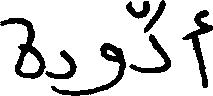X: (0, 13, 45, 83), (143, 0, 169, 77), (193, 5, 212, 92), (47, 45, 75, 95), (101, 38, 125, 95)
